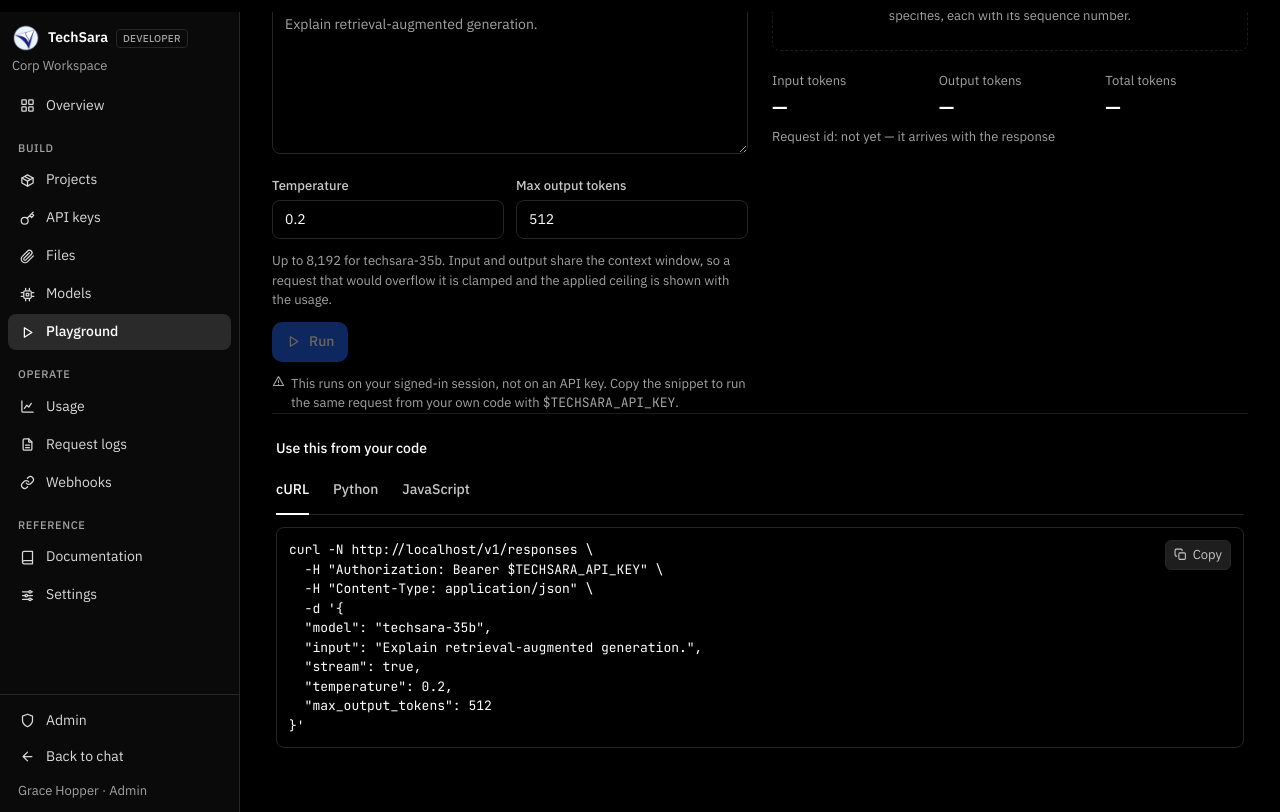
the playground › offers cURL, Python and JavaScript, each reading the key from the environment
(page scrolled)
Click the tab "Python" at (356, 495), box 333,475 -> 378,515
(page scrolled)
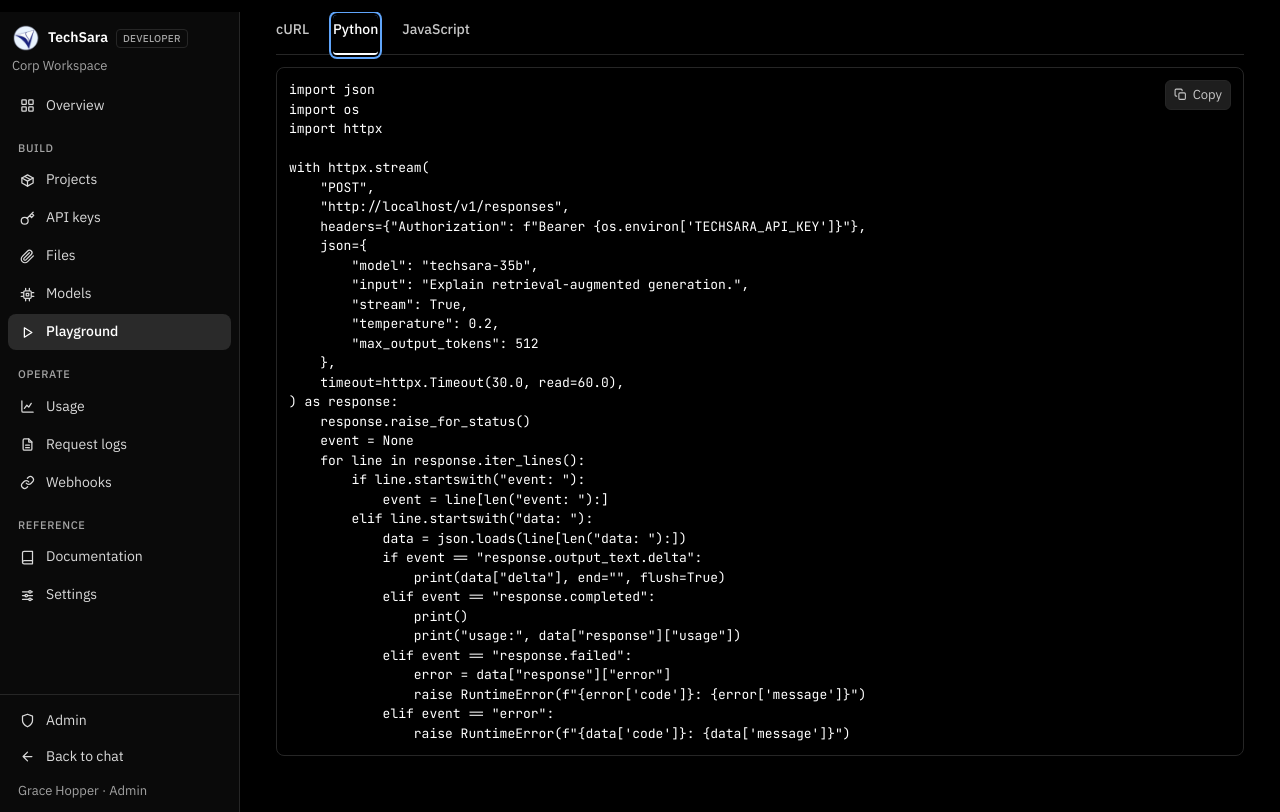
Expected: the text with test id "playground-snippet" shows "TECHSARA_API_KEY", 289,81 -> 866,742
Now the text with test id "playground-snippet" shows "httpx", box 289,81 -> 866,742
